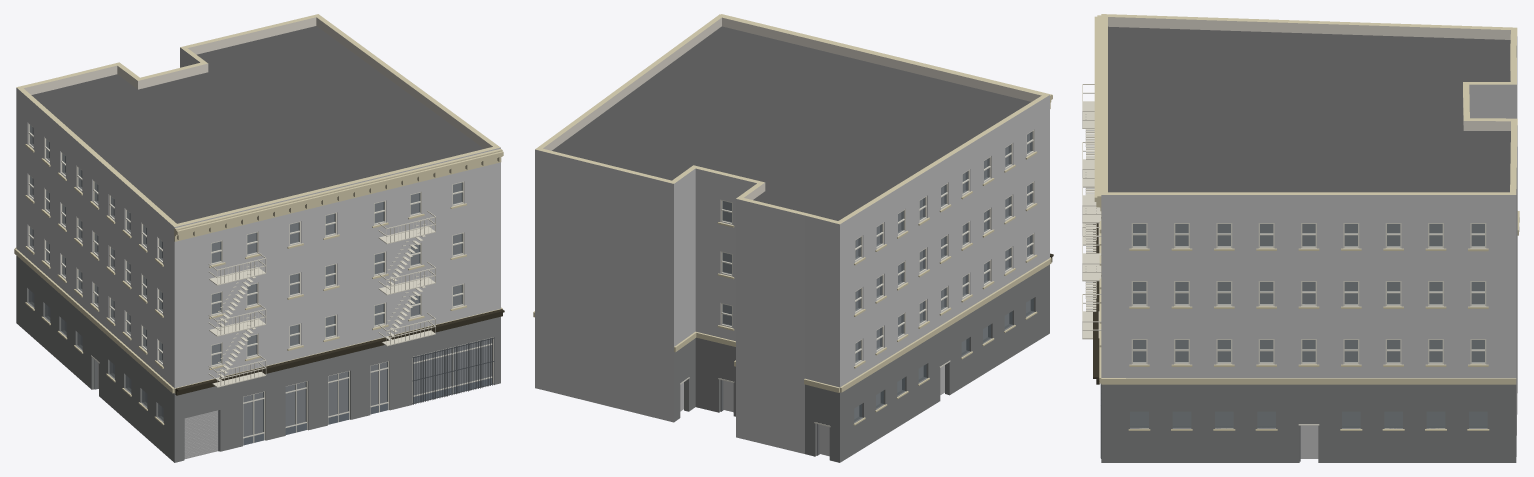
File: exterior.glb
3 views of the same model, side by side, from view 1: azimuth 30°, elevation 25°; view 2: azimuth 150°, elevation 25°; view 3: azimuth 270°, elevation 25° (orthographic). The views are drawn at different scales.
Visible parts, largest first — view 1: shell, roof, glazing, shadow-proxy, trim, storefront, frames, fire-escape.001, fire-escape, hand-ornament; view 2: shell, roof, glazing, trim, frames, shadow-proxy; view 3: shell, roof, glazing, shadow-proxy, trim, frames, fire-escape, fire-escape.001, hand-ornament.
Part boxes in pixels (bbox=[...]): shell: bbox=[16, 14, 500, 462]; roof: bbox=[31, 26, 483, 223]; glazing: bbox=[29, 125, 491, 436]; shadow-proxy: bbox=[32, 128, 491, 436]; trim: bbox=[14, 144, 503, 424]; storefront: bbox=[91, 337, 494, 459]; frames: bbox=[28, 123, 464, 367]; fire-escape.001: bbox=[208, 252, 266, 387]; fire-escape: bbox=[378, 210, 435, 346]; hand-ornament: bbox=[175, 309, 504, 395]; shell: bbox=[535, 14, 1049, 462]; roof: bbox=[552, 26, 1030, 220]; glazing: bbox=[722, 132, 1033, 421]; trim: bbox=[533, 14, 1052, 425]; frames: bbox=[720, 130, 1034, 365]; shadow-proxy: bbox=[680, 133, 1030, 456]; shell: bbox=[1101, 14, 1517, 462]; roof: bbox=[1108, 26, 1510, 192]; glazing: bbox=[1130, 224, 1487, 427]; shadow-proxy: bbox=[1130, 224, 1487, 458]; trim: bbox=[1094, 15, 1519, 430]; frames: bbox=[1131, 223, 1486, 364]; fire-escape: bbox=[1082, 178, 1101, 339]; fire-escape.001: bbox=[1082, 84, 1099, 244]; hand-ornament: bbox=[1093, 223, 1099, 384].
Size of the model in its own units: 23 by 15.71 by 23.24.
